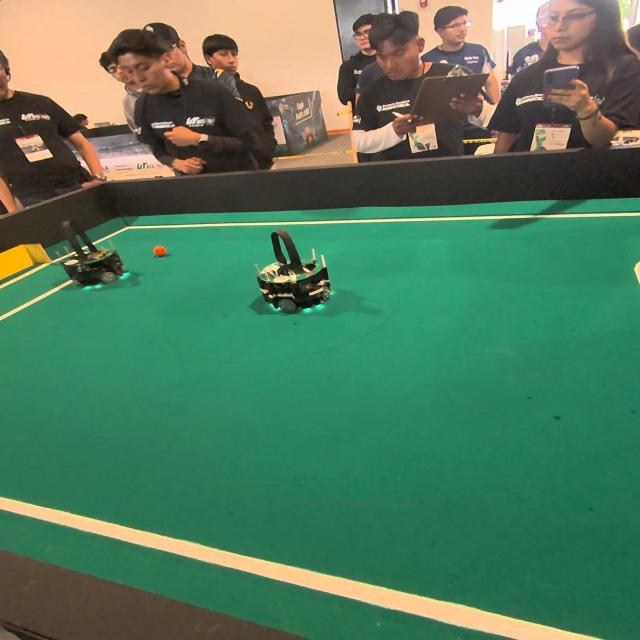Robot: (252, 226, 341, 323), (55, 214, 131, 296)
pelota: (144, 243, 174, 262)
